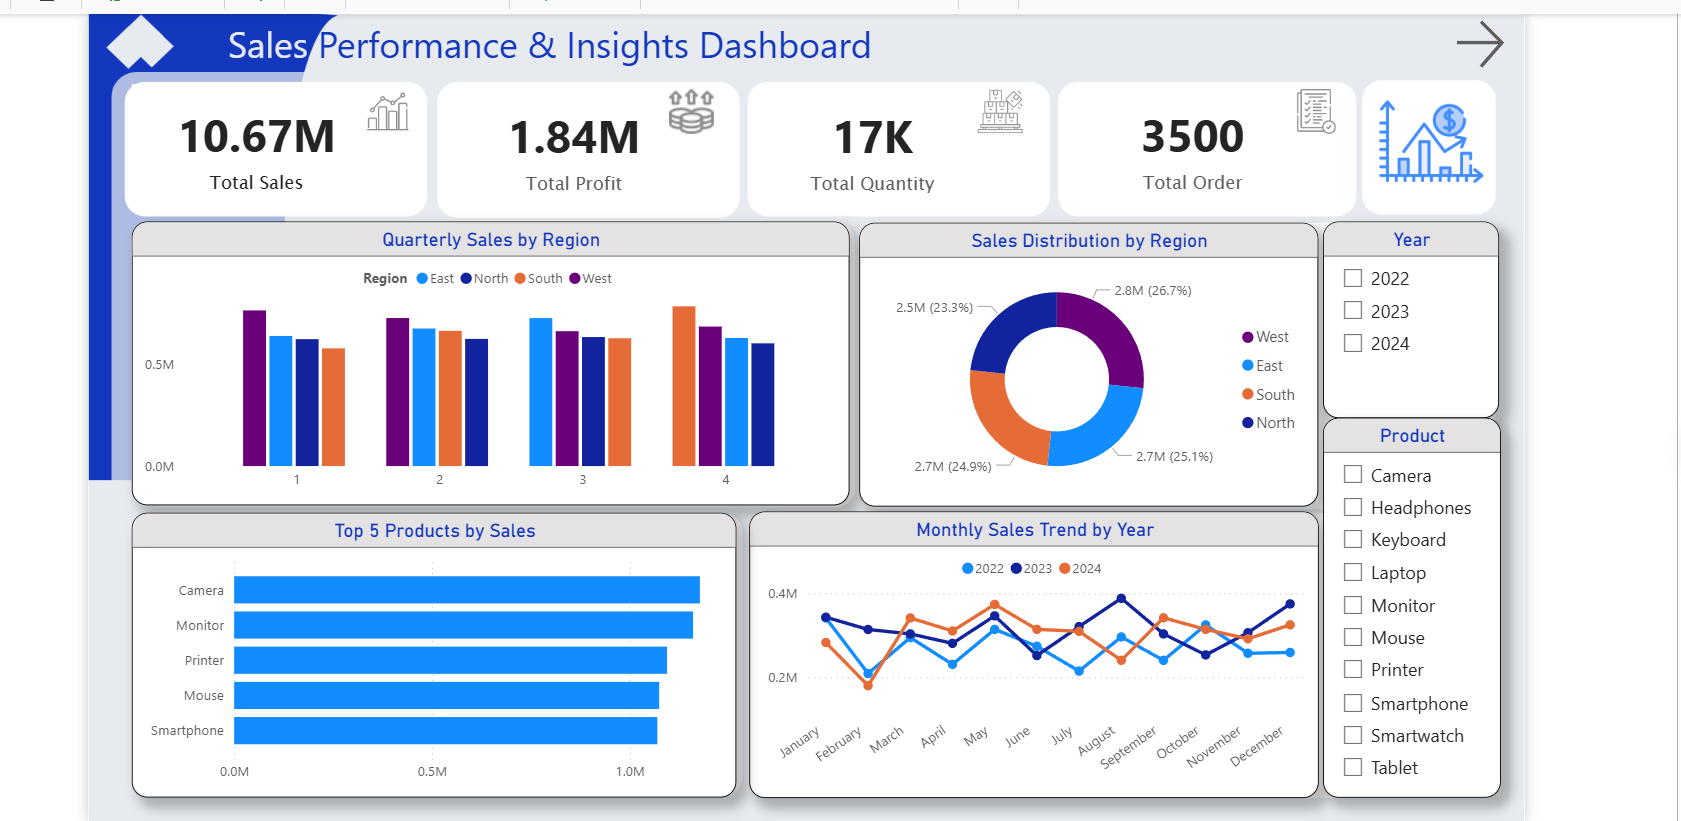

The page's visual inventory and layout, read from the dashboard file:
{"tool":"powerbi","page":{"name":"Overview","canvas":[1280,720],"ordinal":0},"visuals":[{"type":"card","fields":{"Values":["clean_ecommerce_sales.Total Sales"]},"box":[38.8,62.5,222.5,113.8],"z":0},{"type":"card","fields":{"Values":["clean_ecommerce_sales.Total Profit"]},"box":[321.2,63.8,222.5,113.8],"z":1000},{"type":"card","fields":{"Values":["clean_ecommerce_sales.Total Quantity"]},"box":[601.2,65,195,111.2],"z":2000},{"type":"card","fields":{"Values":["CountNonNull(clean_ecommerce_sales.Order_Date)"]},"box":[872.5,63.8,222.5,112.5],"z":3000},{"type":"image","box":[235,66.2,63.8,40],"z":4000},{"type":"image","box":[505,66.2,63.8,40],"z":5000},{"type":"image","box":[1062.5,66.2,63.8,40],"z":6000},{"type":"image","box":[780,66.2,63.8,40],"z":7000},{"type":"clusteredColumnChart","title":"Quarterly Sales by Region","fields":{"Category":["clean_ecommerce_sales.Quarter"],"Series":["clean_ecommerce_sales.Region"],"Y":["clean_ecommerce_sales.Total Sales"]},"box":[39,185,639,253],"z":8000},{"type":"donutChart","title":"Sales Distribution by Region","fields":{"Category":["clean_ecommerce_sales.Region"],"Y":["clean_ecommerce_sales.Total Sales"]},"box":[687.1,185.7,408.6,252.9],"z":9000},{"type":"lineChart","title":"Monthly Sales Trend by Year","fields":{"Category":["clean_ecommerce_sales.Month_Name"],"Y":["clean_ecommerce_sales.Total Sales"],"Series":["clean_ecommerce_sales.Year"]},"box":[588.8,442.5,507.5,255],"z":10000},{"type":"clusteredBarChart","title":"Top 5 Products by Sales","fields":{"Category":["clean_ecommerce_sales.Product_Name"],"Y":["clean_ecommerce_sales.Total Sales"]},"box":[38.8,443.8,538.8,253.8],"z":11000},{"type":"slicer","title":"Year","fields":{"Values":["clean_ecommerce_sales.Year"]},"box":[1100,185,156.7,175],"z":12000},{"type":"slicer","title":"Product","fields":{"Values":["clean_ecommerce_sales.Product_Name"]},"box":[1100,360,158.3,338.3],"z":13000},{"type":"textbox","box":[108.8,0,102.5,55],"z":14000},{"type":"textbox","box":[166.2,0,571.2,55],"z":15000},{"type":"actionButton","box":[1212.5,0,67.5,53.8],"z":16000},{"type":"image","box":[1150,62.5,92.5,112.5],"z":17000}]}

Visuals, with their boxes on the page's 1280x720 design canvas (x1, y1, x2, y2). These are canvas units, not pixel positions in the 1681x821 screenshot, which may show the page scaled, cropped or inside an application window:
card - clean_ecommerce_sales.Total Sales: [39,62,261,176]
card - clean_ecommerce_sales.Total Profit: [321,64,544,178]
card - clean_ecommerce_sales.Total Quantity: [601,65,796,176]
card - CountNonNull(clean_ecommerce_sales.Order_Date): [872,64,1095,176]
image: [235,66,299,106]
image: [505,66,569,106]
image: [1062,66,1126,106]
image: [780,66,844,106]
"Quarterly Sales by Region" clusteredColumnChart: [39,185,678,438]
"Sales Distribution by Region" donutChart: [687,186,1096,439]
"Monthly Sales Trend by Year" lineChart: [589,442,1096,698]
"Top 5 Products by Sales" clusteredBarChart: [39,444,578,698]
"Year" slicer: [1100,185,1257,360]
"Product" slicer: [1100,360,1258,698]
textbox: [109,0,211,55]
textbox: [166,0,737,55]
actionButton: [1212,0,1280,54]
image: [1150,62,1242,175]
